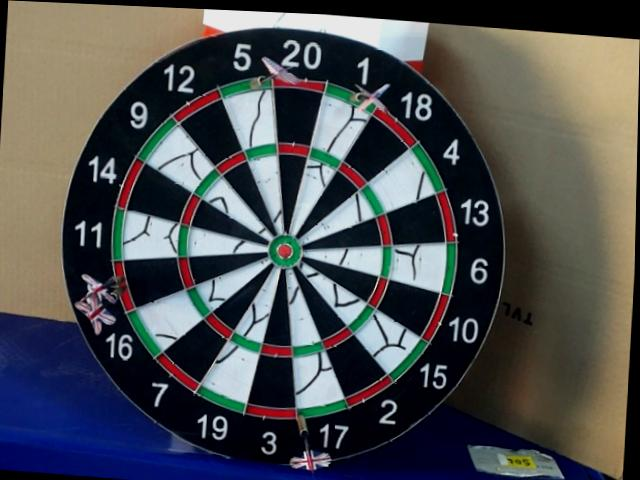double_8: (116, 261, 137, 312)
